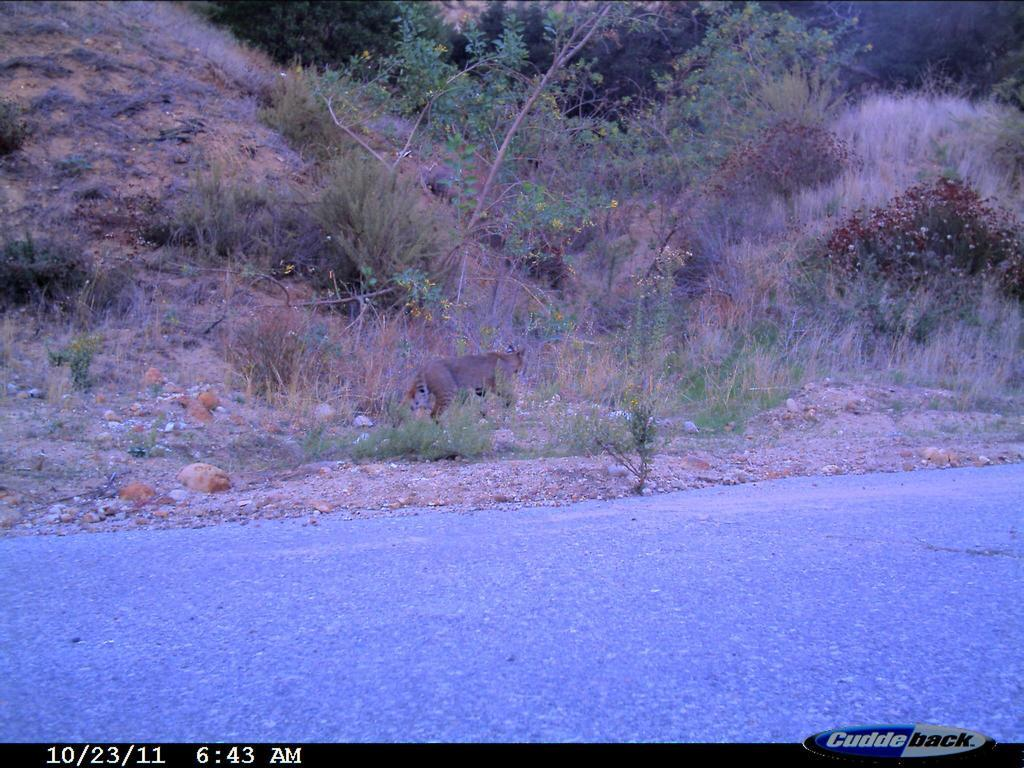bobcat: (393, 345, 546, 440)
